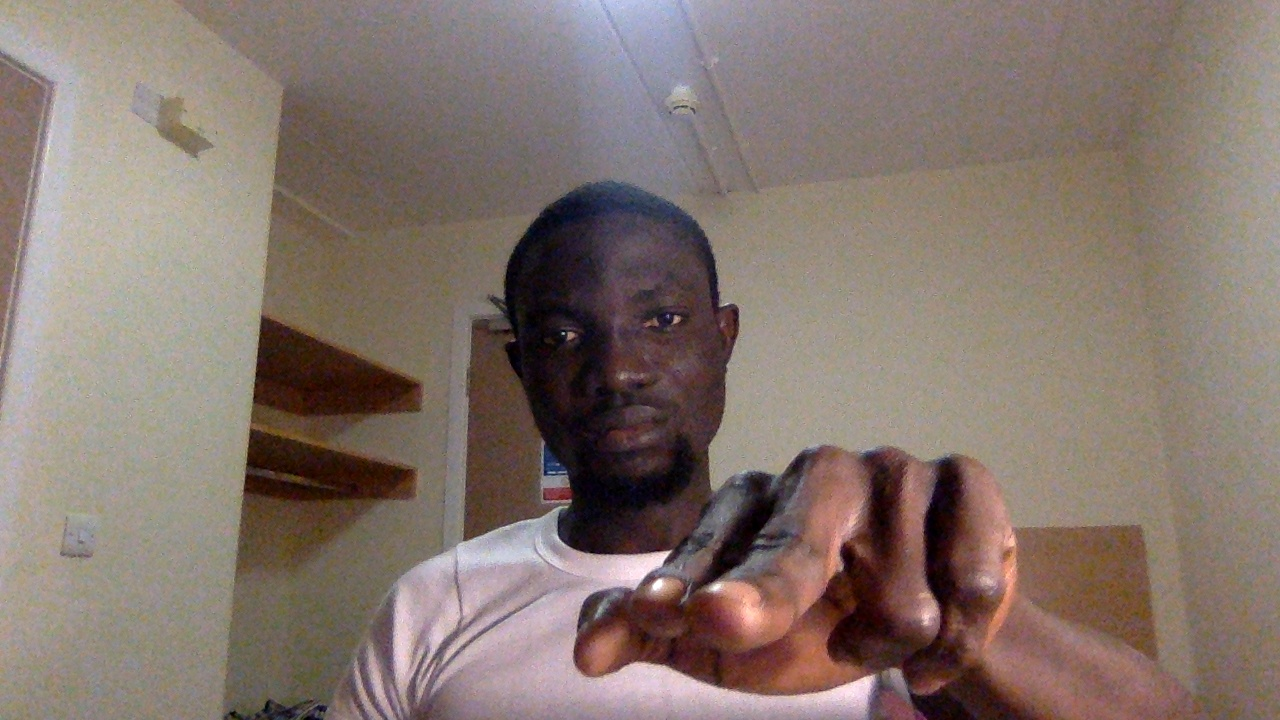No: (567, 440, 1034, 702)
